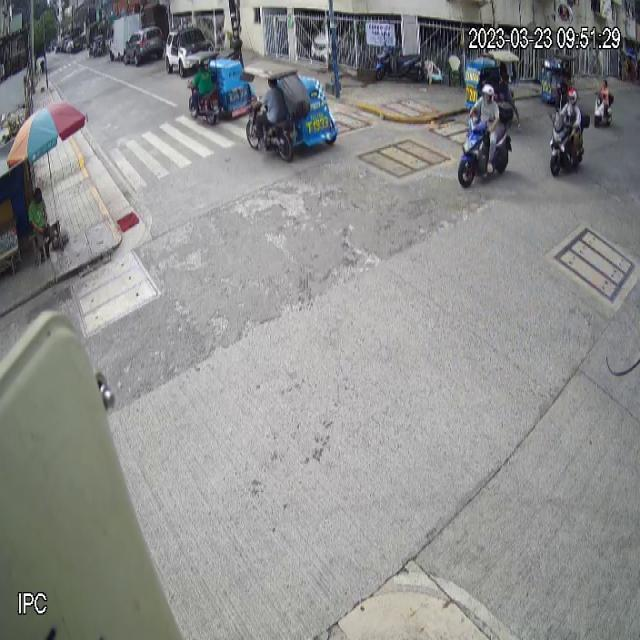Motorcycle: (457, 113, 512, 188), (549, 110, 587, 178)
Tricycle: (244, 62, 338, 161), (186, 49, 256, 126)
